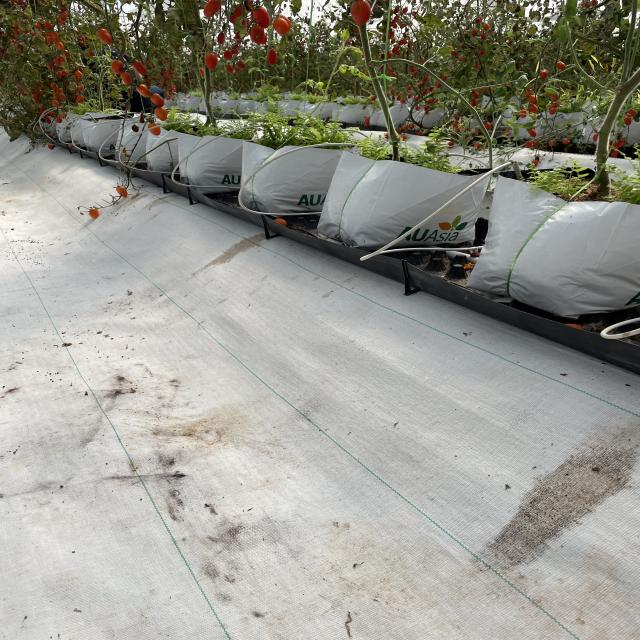Soilbag: (458, 180, 640, 314), (311, 158, 485, 243), (238, 137, 358, 215)
